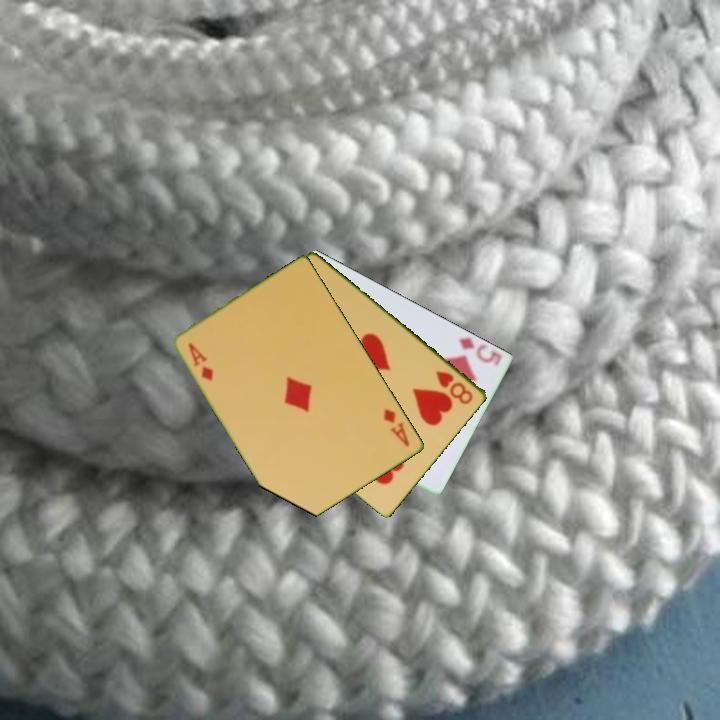5d: (454, 333, 505, 366)
8h: (432, 367, 476, 407)
Ad: (380, 405, 413, 450), (185, 339, 217, 384)
